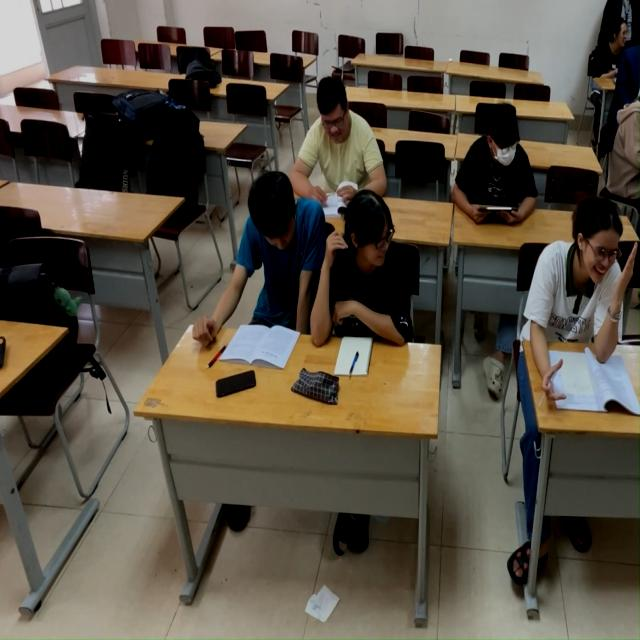raise_hand: (537, 177, 640, 432)
read: (215, 153, 309, 380), (447, 83, 533, 230), (297, 74, 366, 221)
